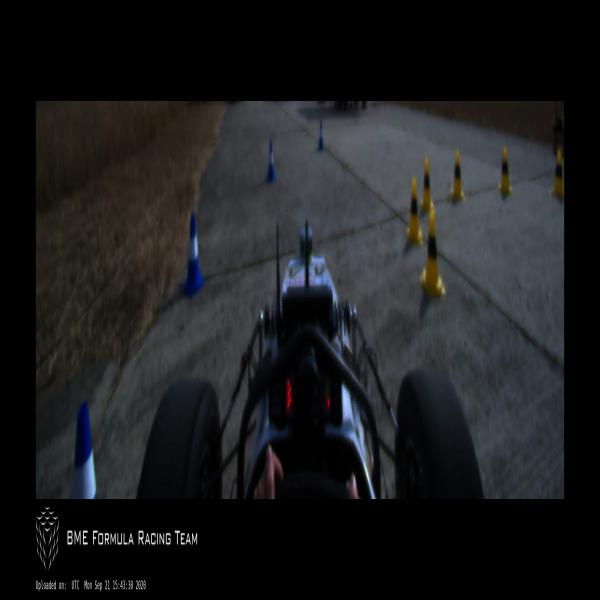blue_cone: (72, 404, 97, 498), (181, 214, 205, 296), (265, 141, 276, 183), (318, 120, 325, 151)
yellow_cone: (420, 212, 446, 300), (406, 180, 422, 244), (450, 150, 465, 199), (549, 150, 564, 199), (420, 157, 433, 212), (498, 147, 512, 193)
